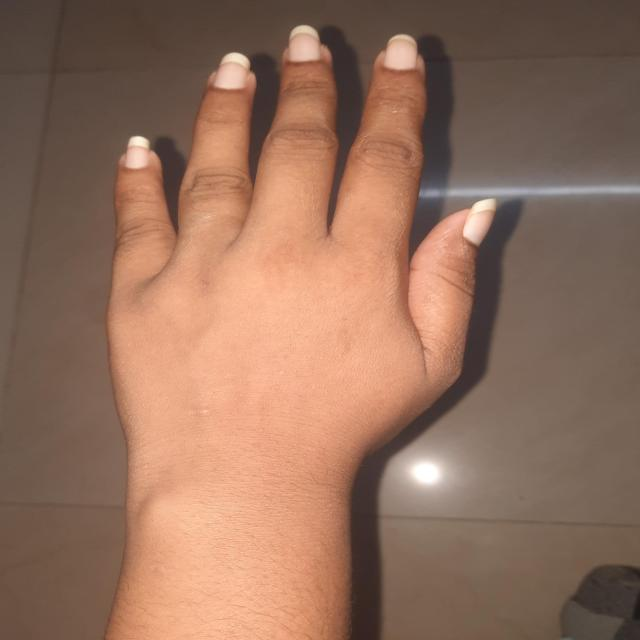nail: (463, 199, 497, 246), (214, 53, 250, 90), (287, 26, 321, 62), (384, 35, 418, 70), (124, 136, 150, 169)
